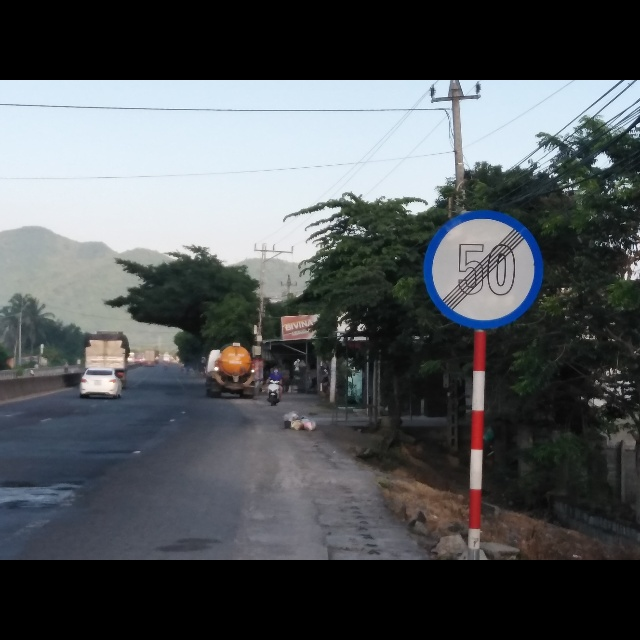Hết hạn chế tốc độ tối đa 50km/h: (421, 210, 543, 330)
